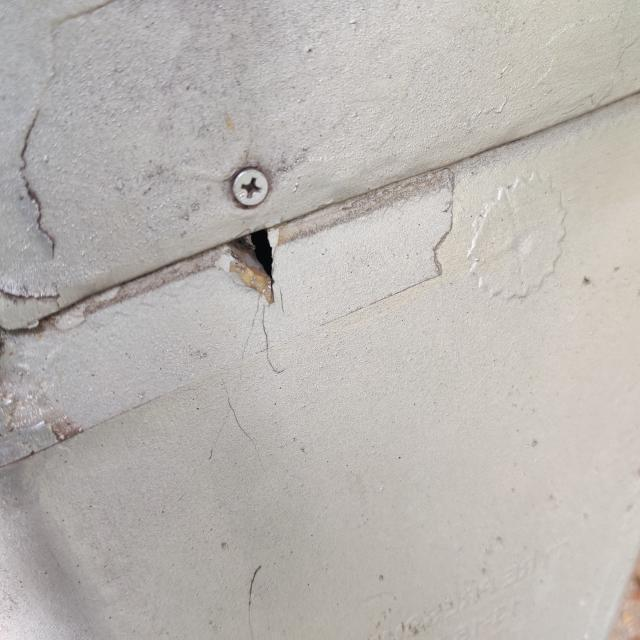Crack: (192, 208, 312, 330)
